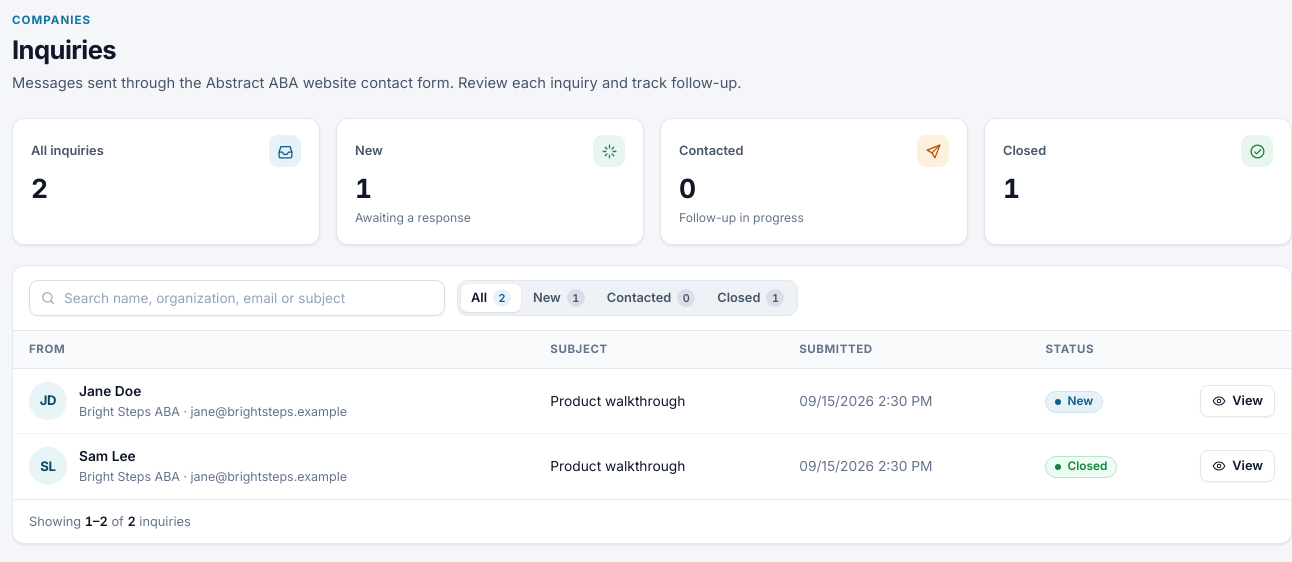
InquiriesRx — Super Admin website inquiries › filters by status
Click the button with class "rxc-filter" showing "Closed 1" at (751, 298), box left=707, top=284, right=794, bottom=312
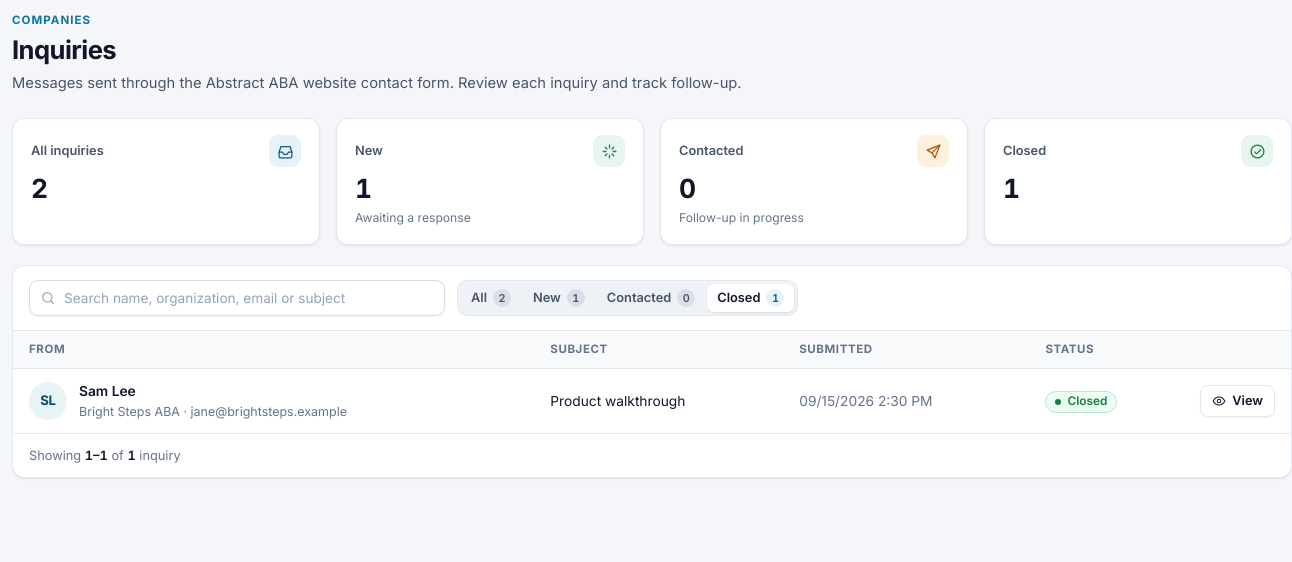
expect the table shows "Sam Lee": met, box left=79, top=383, right=136, bottom=399
expect the text "Jane Doe" is gone: met
